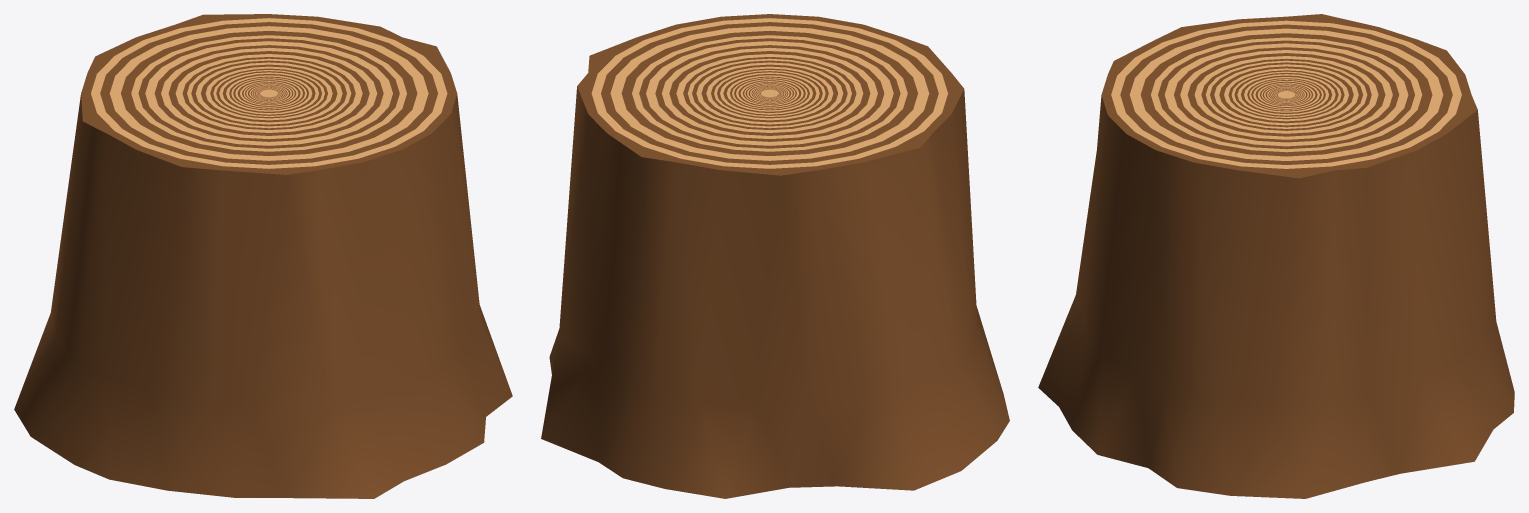
File: stump.fbx
The picture shows the model from 3 angles, left to right: view 1: azimuth 30°, elevation 25°; view 2: azimuth 150°, elevation 25°; view 3: azimuth 270°, elevation 25°; orthographic projection.
Parts seen in each view (by area): view 1: Stump; view 2: Stump; view 3: Stump.
Part boxes in pixels (left/top/right/bottom): Stump: left=14, top=14, right=512, bottom=498; Stump: left=541, top=14, right=1009, bottom=498; Stump: left=1038, top=14, right=1514, bottom=498.
Size of the model in its own units: 0.7794 by 0.5386 by 0.768.
